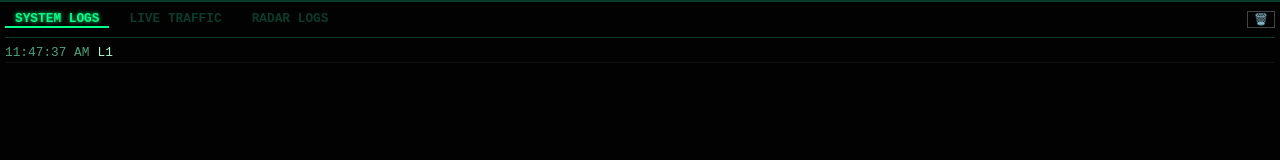
ConsoleLogs › debe mostrar RADAR LOGS en su pestaña
Click the text "RADAR LOGS" at (290, 18), box [252, 11, 328, 26]
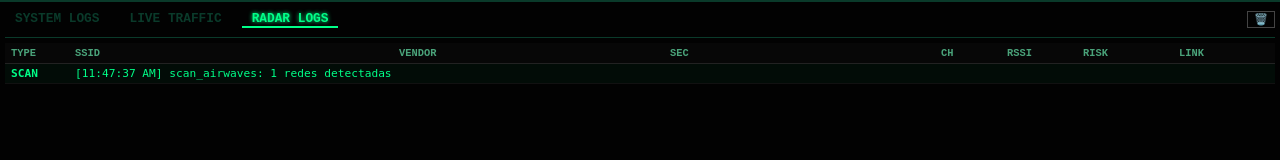
Expected: the text "[11:47:37 AM] scan_airwaves: 1 redes detectadas" is shown, [75, 67, 392, 80]
